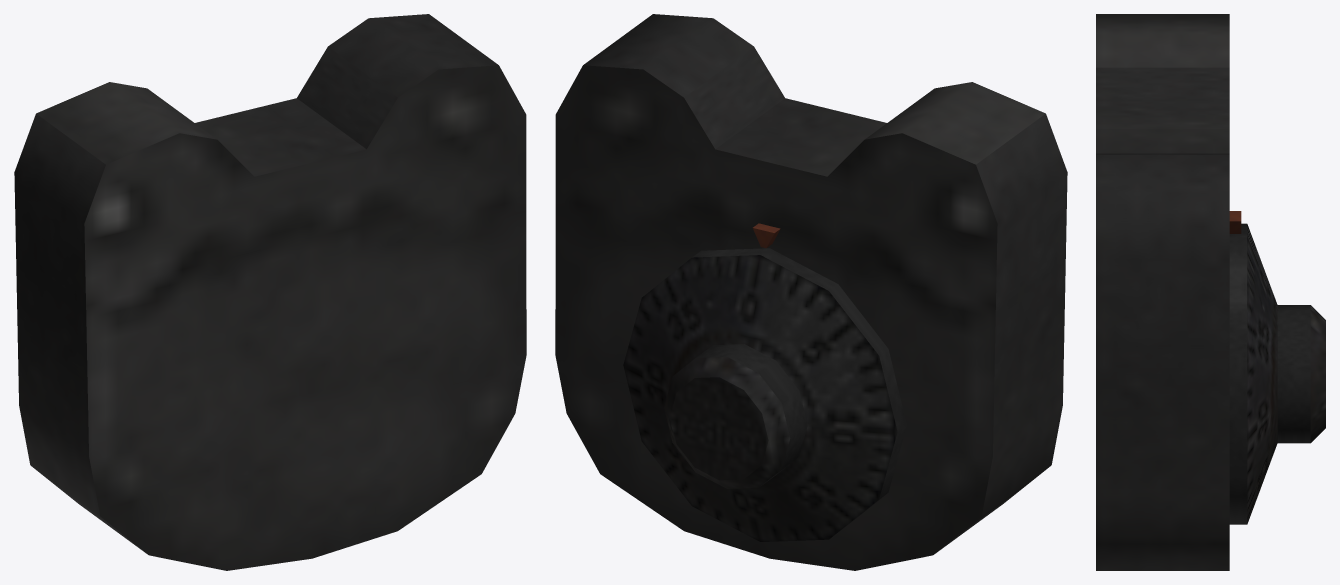
Rendered from padlock_2.fbx.
3 renders of one model, left to right at view 1: azimuth 30°, elevation 25°; view 2: azimuth 150°, elevation 25°; view 3: azimuth 270°, elevation 25°, orthographic. The views are drawn at different scales.
Visible parts, largest first — view 1: padlock_2; view 2: padlock_2, padlock_2_knob; view 3: padlock_2, padlock_2_knob.
Part boxes in pixels (left/top/right/bottom): padlock_2: left=14, top=14, right=526, bottom=570; padlock_2: left=555, top=14, right=1067, bottom=570; padlock_2_knob: left=623, top=248, right=906, bottom=541; padlock_2: left=1096, top=14, right=1241, bottom=570; padlock_2_knob: left=1229, top=223, right=1325, bottom=524.
Size of the model in its own units: 0.0806 by 0.0381 by 0.0798.
